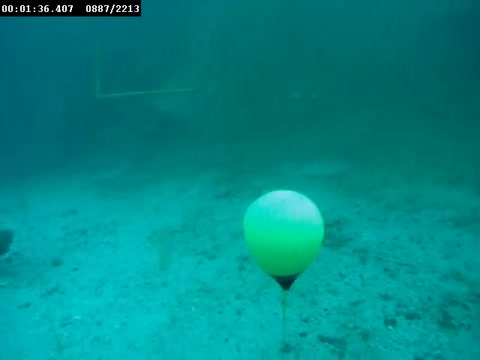buoy_green: (241, 189, 326, 292)
